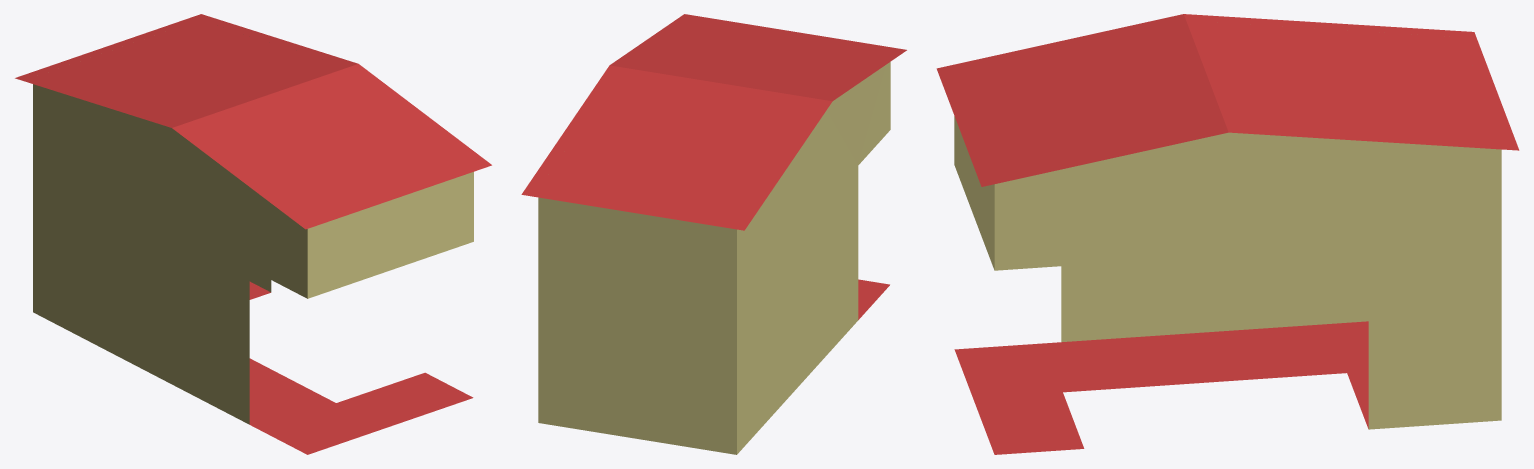
The picture shows the model from 3 angles, left to right: view 1: azimuth 30°, elevation 25°; view 2: azimuth 150°, elevation 25°; view 3: azimuth 270°, elevation 25°; orthographic projection. The views are drawn at different scales.
Size of the model in its own units: 11.7 by 18.58 by 11.01.
